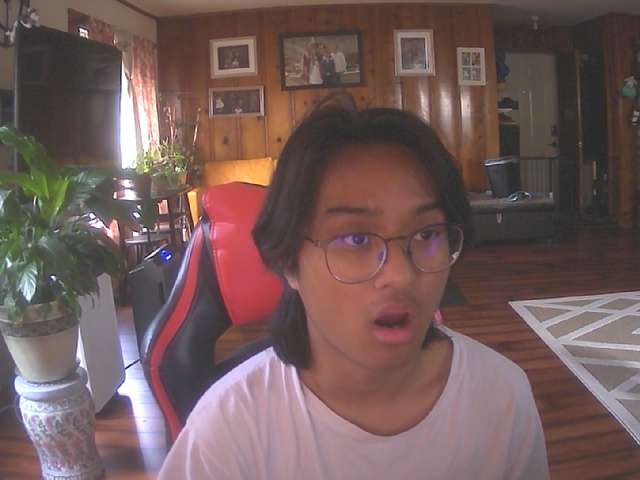fear: (277, 121, 470, 380)
